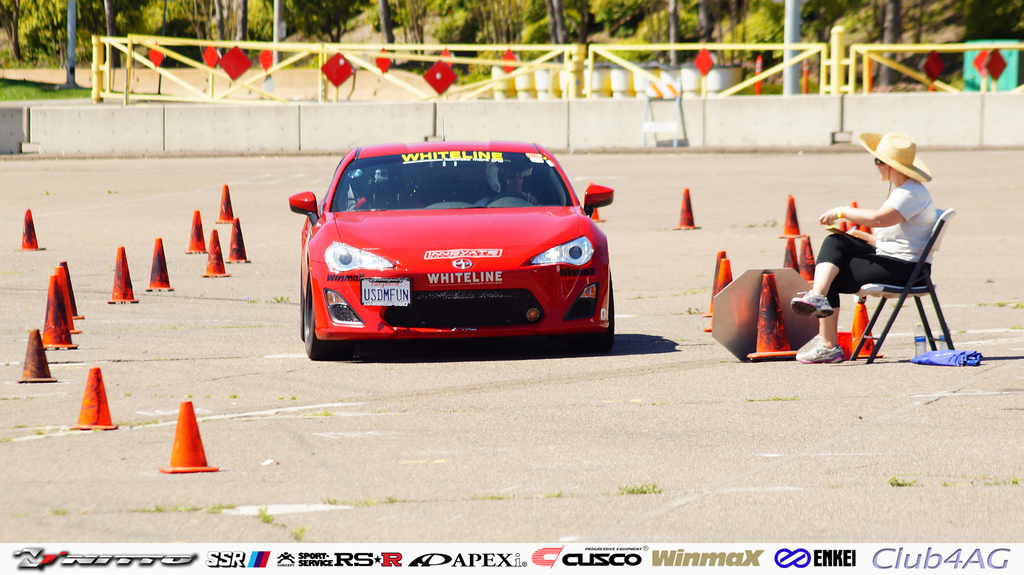Car: (279, 127, 616, 353)
